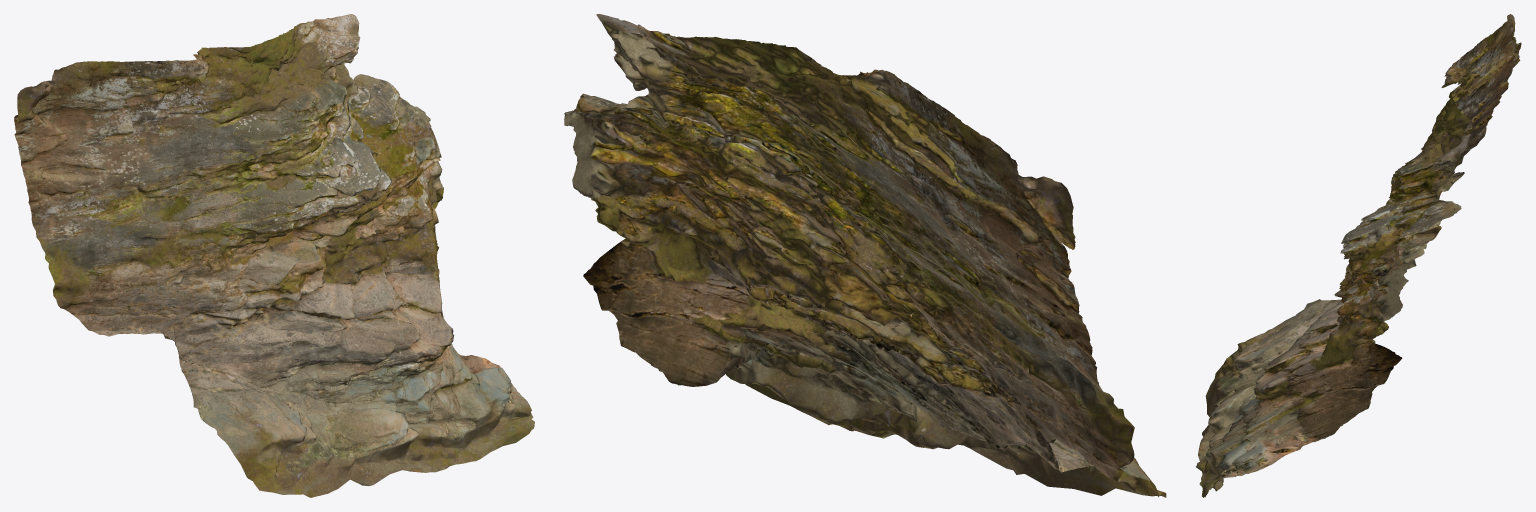
3 renders of one model, left to right at view 1: azimuth 30°, elevation 25°; view 2: azimuth 150°, elevation 25°; view 3: azimuth 270°, elevation 25°, orthographic. The views are drawn at different scales.
Visible parts, largest first — view 1: rock_face_02; view 2: rock_face_02; view 3: rock_face_02.
Boxes of the visible parts, <box> form: rock_face_02: <box>14,14,534,497</box>; rock_face_02: <box>564,14,1166,497</box>; rock_face_02: <box>1196,14,1521,497</box>.
Bounding box in the file's own units: 2.71 × 2.47 × 2.13.
Materials: 1 (1 with a texture image).
